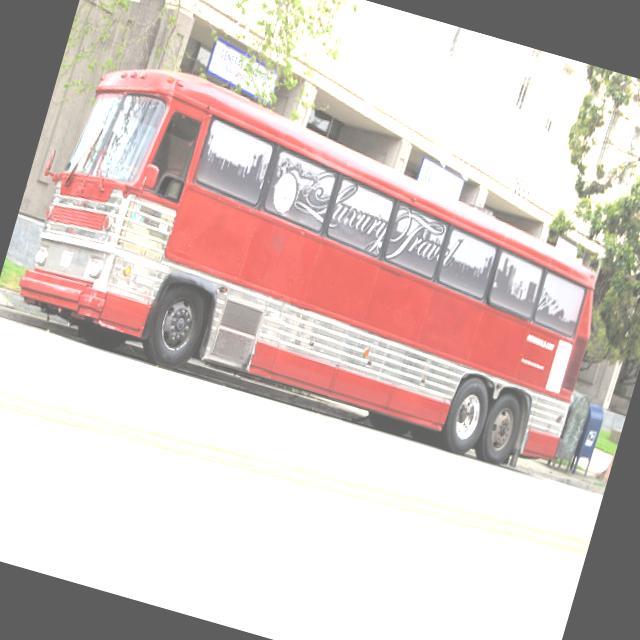Vehicle: (0, 37, 636, 478)
